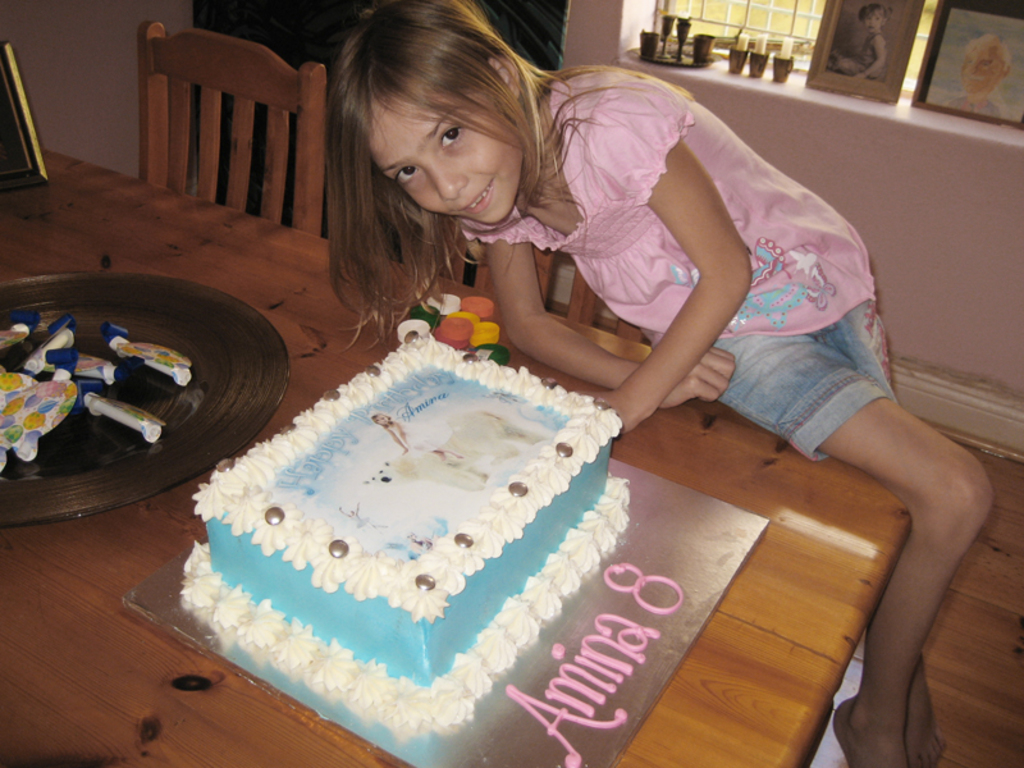cake: (180, 332, 626, 744)
